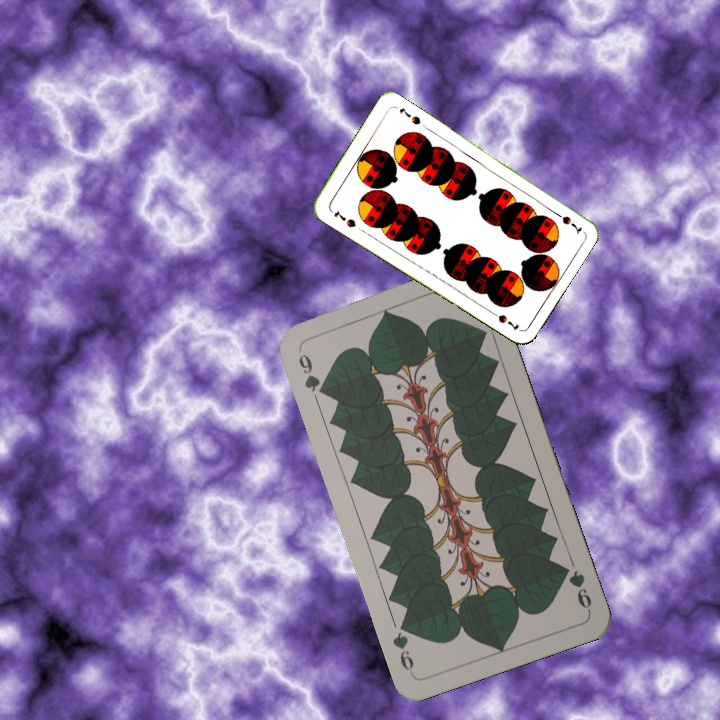G9: (557, 561, 594, 615), (294, 345, 329, 399)
S7: (548, 206, 585, 235), (330, 206, 359, 230)
